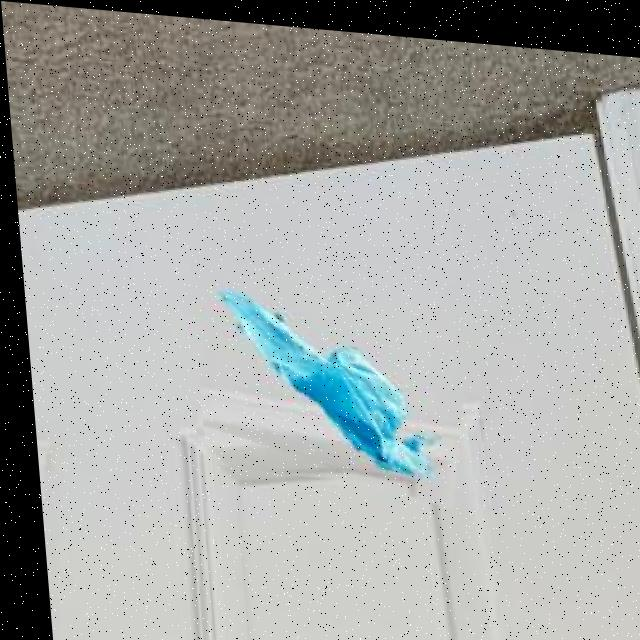plasticcover: (185, 256, 473, 489)
